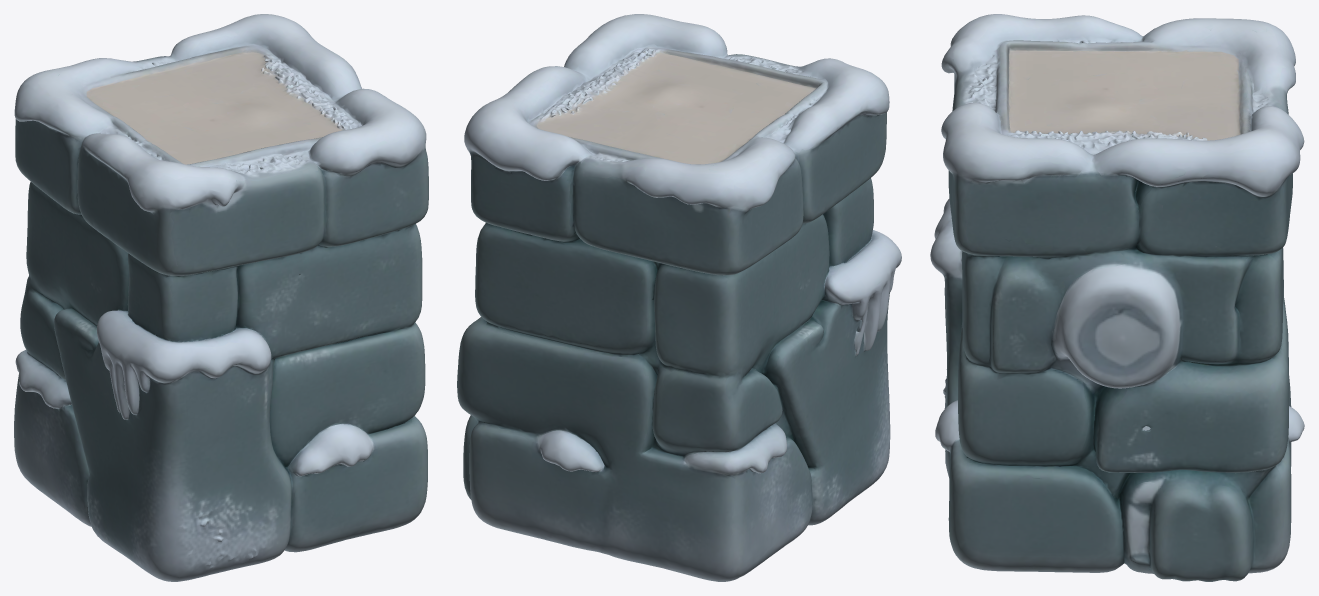
The picture shows the model from 3 angles, left to right: view 1: azimuth 30°, elevation 25°; view 2: azimuth 150°, elevation 25°; view 3: azimuth 270°, elevation 25°; orthographic projection. The views are drawn at different scales.
Visible parts, largest first — view 1: world; view 2: world; view 3: world.
Part boxes in pixels (x1=…): world: x1=14, y1=14, x2=428, y2=581; world: x1=457, y1=14, x2=901, y2=581; world: x1=930, y1=14, x2=1304, y2=581.
Bounding box in the file's own units: 0.7991 × 1 × 0.7747.
1 material, 1 textured.
